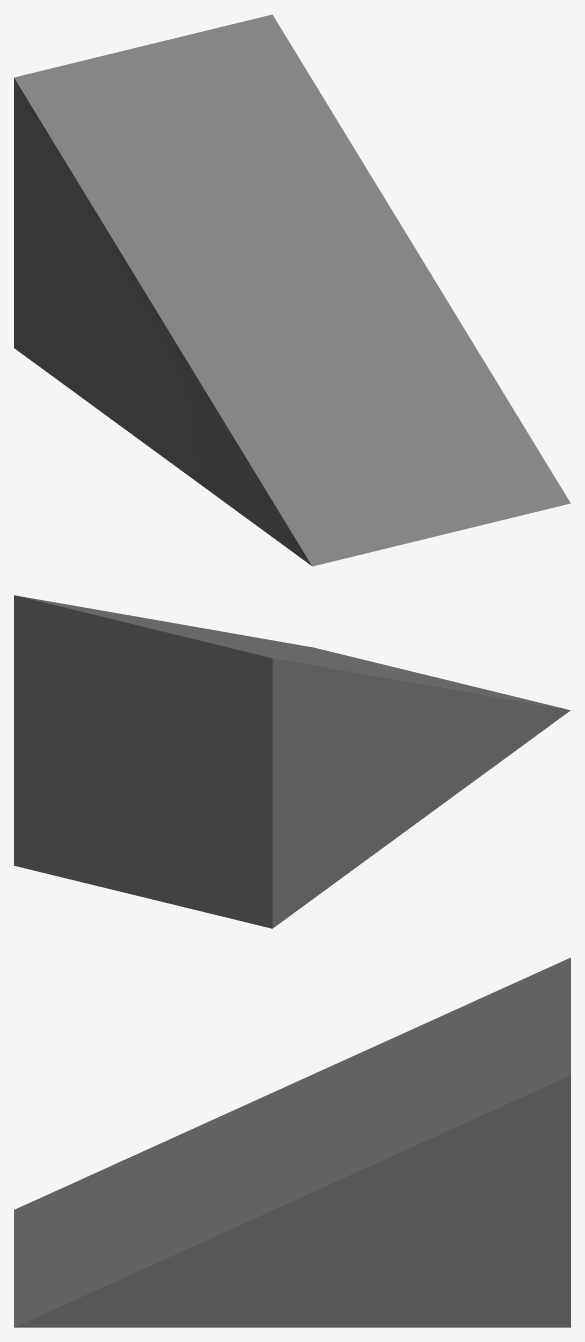
The model's file is q-scifi-mod-platform-ramp-4.glb.
The picture shows the model from 3 angles, top to bottom: view 1: azimuth 30°, elevation 25°; view 2: azimuth 150°, elevation 25°; view 3: azimuth 270°, elevation 25°; orthographic projection. The views are drawn at different scales.
Parts seen in each view (by area): view 1: Platform_Ramp_4; view 2: Platform_Ramp_4; view 3: Platform_Ramp_4.
Boxes of the visible parts, box(x1,y1,x2,y2) form: Platform_Ramp_4: box(14, 14, 570, 566); Platform_Ramp_4: box(14, 595, 570, 928); Platform_Ramp_4: box(14, 957, 570, 1327).
Size of the model in its own units: 2 by 2 by 4.
3 materials, 3 textured.
